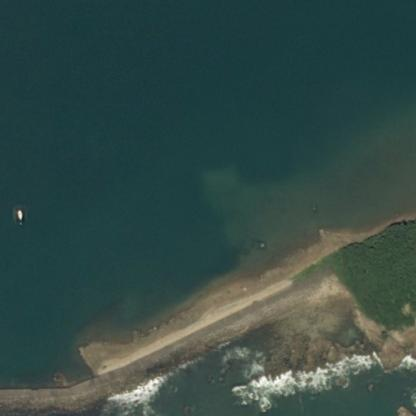ship: (12, 204, 27, 228)
